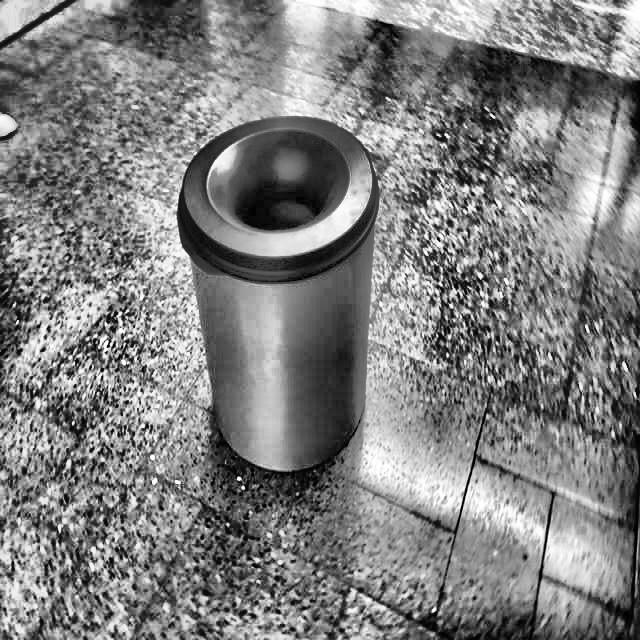Dustbin: (157, 81, 391, 473)
